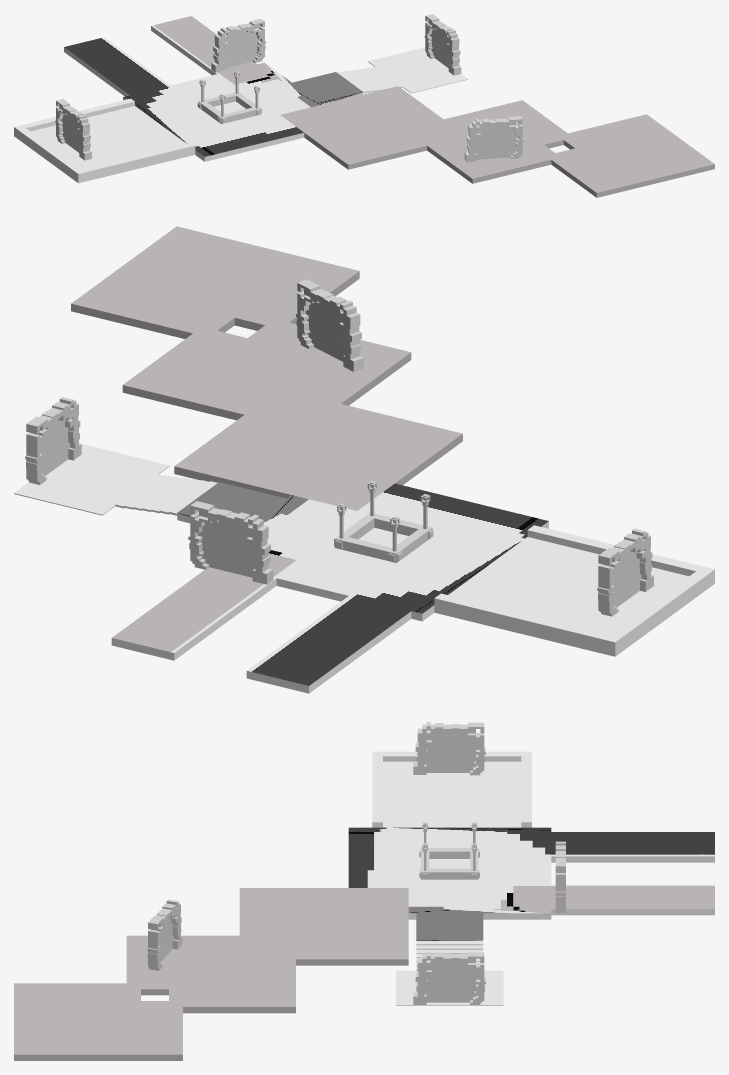
The model's file is HubV6.fbx.
3 views of the same model, one above another, from view 1: azimuth 30°, elevation 25°; view 2: azimuth 150°, elevation 25°; view 3: azimuth 270°, elevation 25° (orthographic). The views are drawn at different scales.
Visible parts, largest first — view 1: Dice Boss Floor, Central Hall, Arcade Boss, Labyrinth, Reception, ArkV2.001, ArkV2, Veil, ArkV2.2, ArkV2.003, Veil.003, Veil.001 (+1 smaller); view 2: Dice Boss Floor, Central Hall, Arcade Boss, Labyrinth, Reception, ArkV2.001, ArkV2, ArkV2.003, ArkV2.2, Veil.003, Veil, Veil.001 (+1 smaller); view 3: Dice Boss Floor, Central Hall, Arcade Boss, Labyrinth, Veil.002, Veil.001, ArkV2.003, Reception, ArkV2.2, ArkV2, ArkV2.001.
Part boxes in pixels (x1=…): Dice Boss Floor: x1=280, y1=86, x2=714, y2=197; Central Hall: x1=123, y1=47, x2=468, y2=161; Arcade Boss: x1=14, y1=98, x2=195, y2=183; Labyrinth: x1=64, y1=16, x2=256, y2=96; Reception: x1=197, y1=71, x2=261, y2=124; ArkV2.001: x1=211, y1=18, x2=266, y2=72; ArkV2: x1=464, y1=116, x2=523, y2=162; Veil: x1=475, y1=126, x2=518, y2=159; ArkV2.2: x1=424, y1=14, x2=461, y2=75; ArkV2.003: x1=55, y1=99, x2=91, y2=160; Veil.003: x1=223, y1=31, x2=260, y2=68; Veil.001: x1=430, y1=29, x2=449, y2=67; Dice Boss Floor: x1=71, y1=226, x2=462, y2=510; Central Hall: x1=14, y1=444, x2=548, y2=621; Arcade Boss: x1=434, y1=525, x2=714, y2=656; Labyrinth: x1=111, y1=567, x2=411, y2=693; Reception: x1=334, y1=481, x2=433, y2=562; ArkV2.001: x1=188, y1=501, x2=273, y2=584; ArkV2: x1=296, y1=279, x2=363, y2=371; ArkV2.003: x1=597, y1=528, x2=653, y2=616; ArkV2.2: x1=25, y1=397, x2=81, y2=484; Veil.003: x1=198, y1=520, x2=255, y2=577; Veil: x1=305, y1=302, x2=344, y2=361; Veil.001: x1=40, y1=420, x2=69, y2=475; Dice Boss Floor: x1=14, y1=888, x2=408, y2=1060; Central Hall: x1=348, y1=827, x2=551, y2=1005; Arcade Boss: x1=372, y1=751, x2=531, y2=827; Labyrinth: x1=551, y1=832, x2=714, y2=915; Veil.002: x1=424, y1=733, x2=480, y2=772; Veil.001: x1=424, y1=963, x2=480, y2=1002; ArkV2.003: x1=413, y1=722, x2=485, y2=775; Reception: x1=419, y1=822, x2=479, y2=879; ArkV2.2: x1=413, y1=952, x2=485, y2=1004; ArkV2: x1=147, y1=899, x2=182, y2=970; ArkV2.001: x1=555, y1=841, x2=565, y2=912.
Size of the model in its own units: 17201 by 1508 by 17120.
